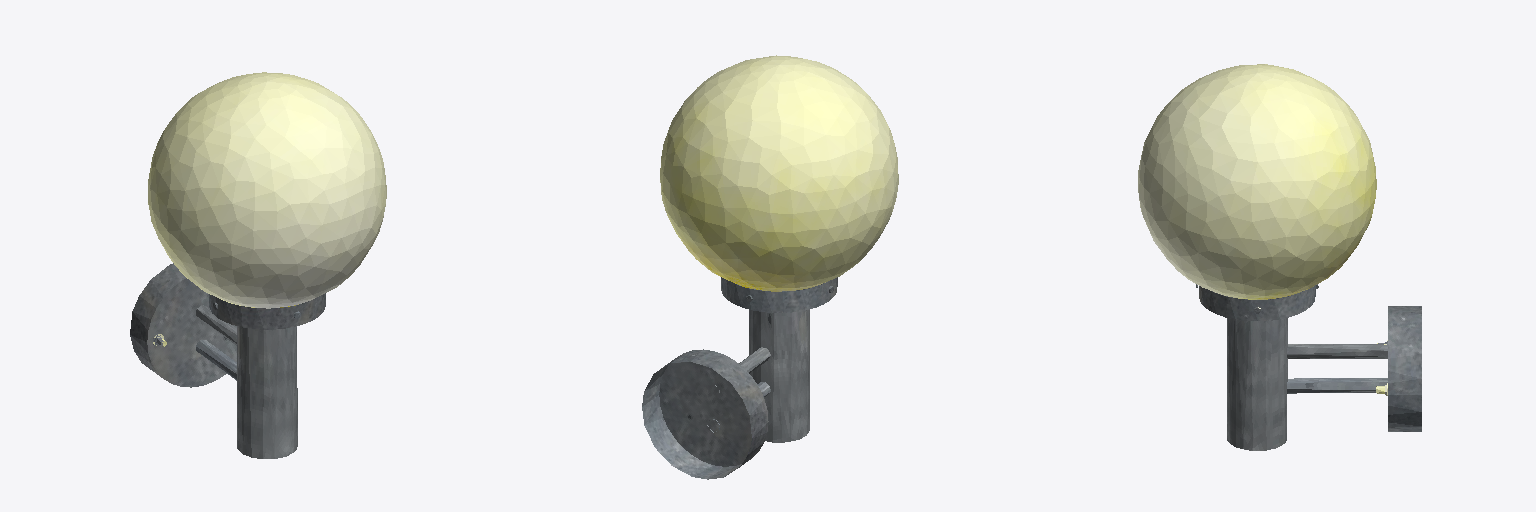
3 views of the same model, side by side, from view 1: azimuth 30°, elevation 25°; view 2: azimuth 150°, elevation 25°; view 3: azimuth 270°, elevation 25° (orthographic).
Parts seen in each view (by area): view 1: sconce_02; view 2: sconce_02; view 3: sconce_02.
Part boxes in pixels (bbox=[...]): sconce_02: bbox=[130, 72, 386, 458]; sconce_02: bbox=[642, 55, 898, 479]; sconce_02: bbox=[1138, 64, 1421, 450].
Bounding box in the file's own units: 0.4163 × 0.7033 × 0.4954.
1 materials, 1 textured.